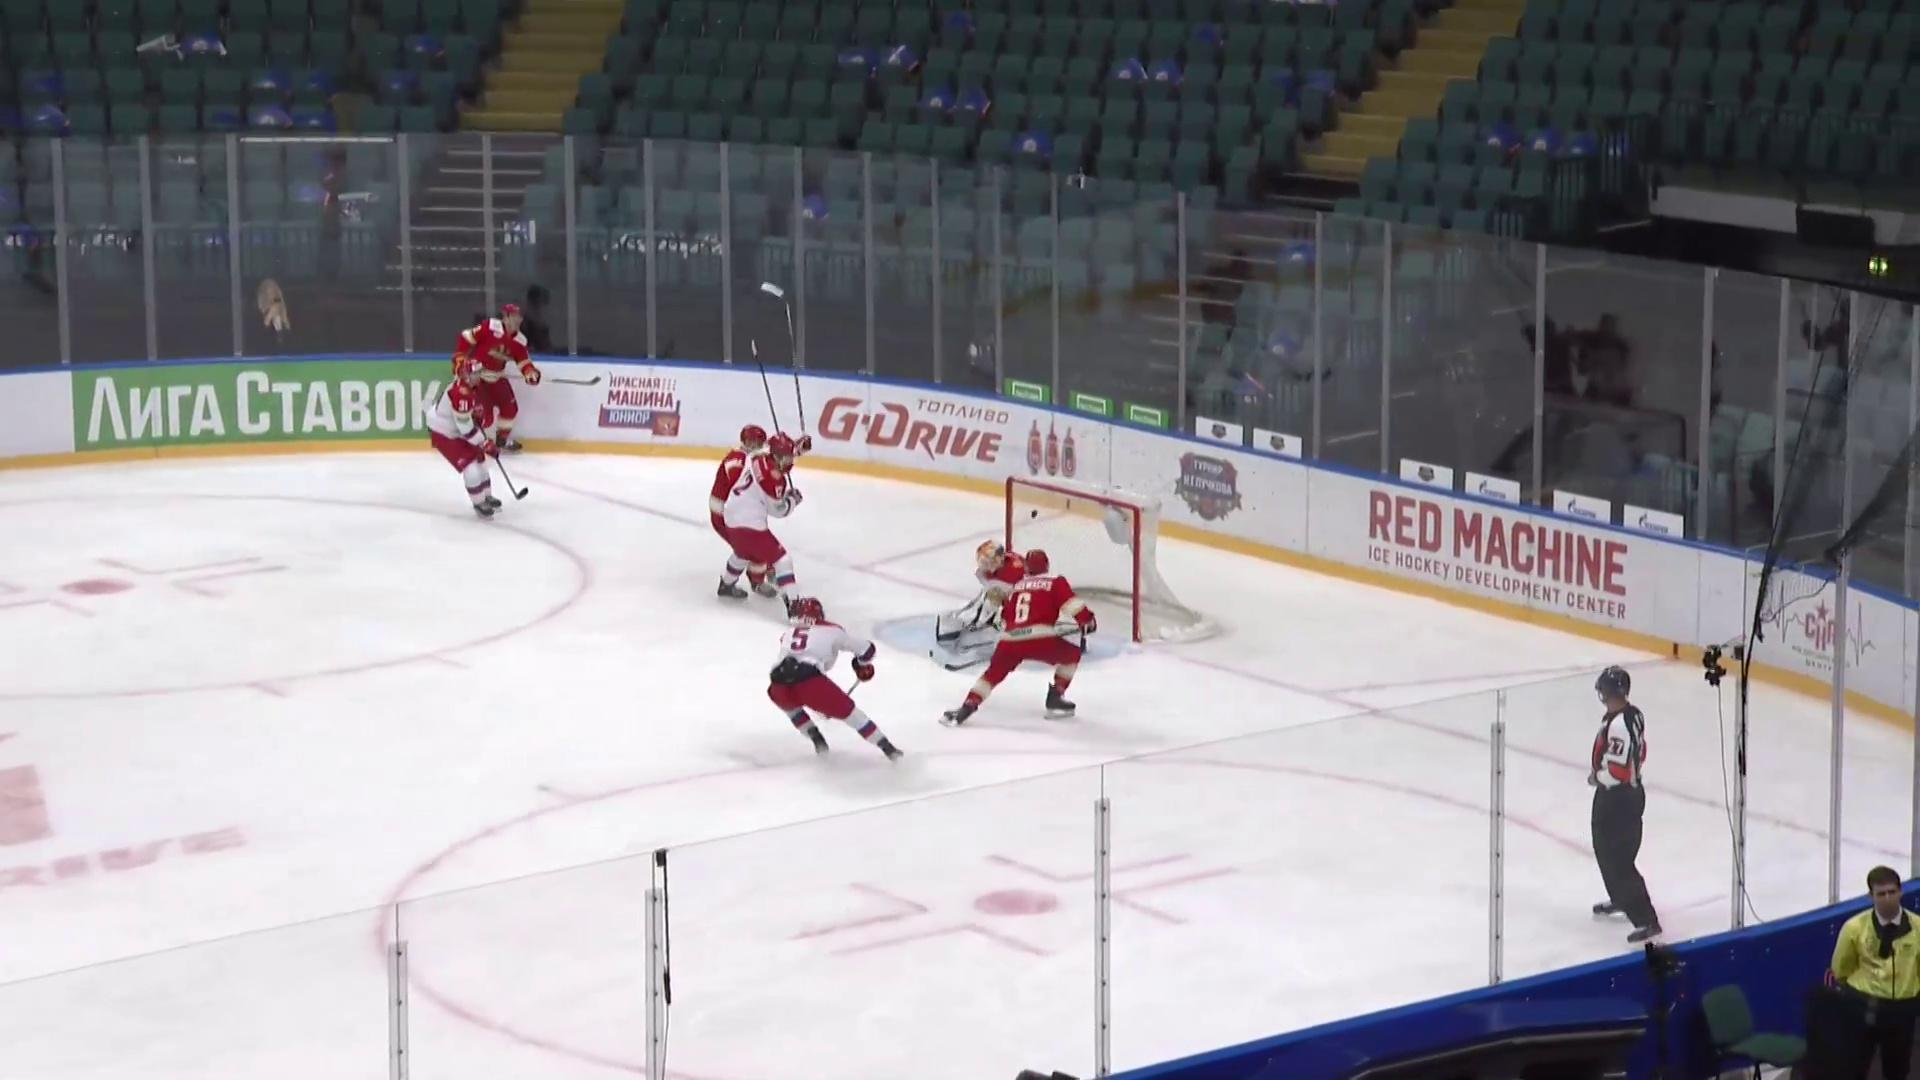ball: (1027, 509, 1042, 521)
